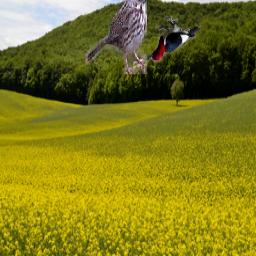Sparrow: (85, 0, 147, 75)
Woodpecker: (143, 16, 202, 64)
